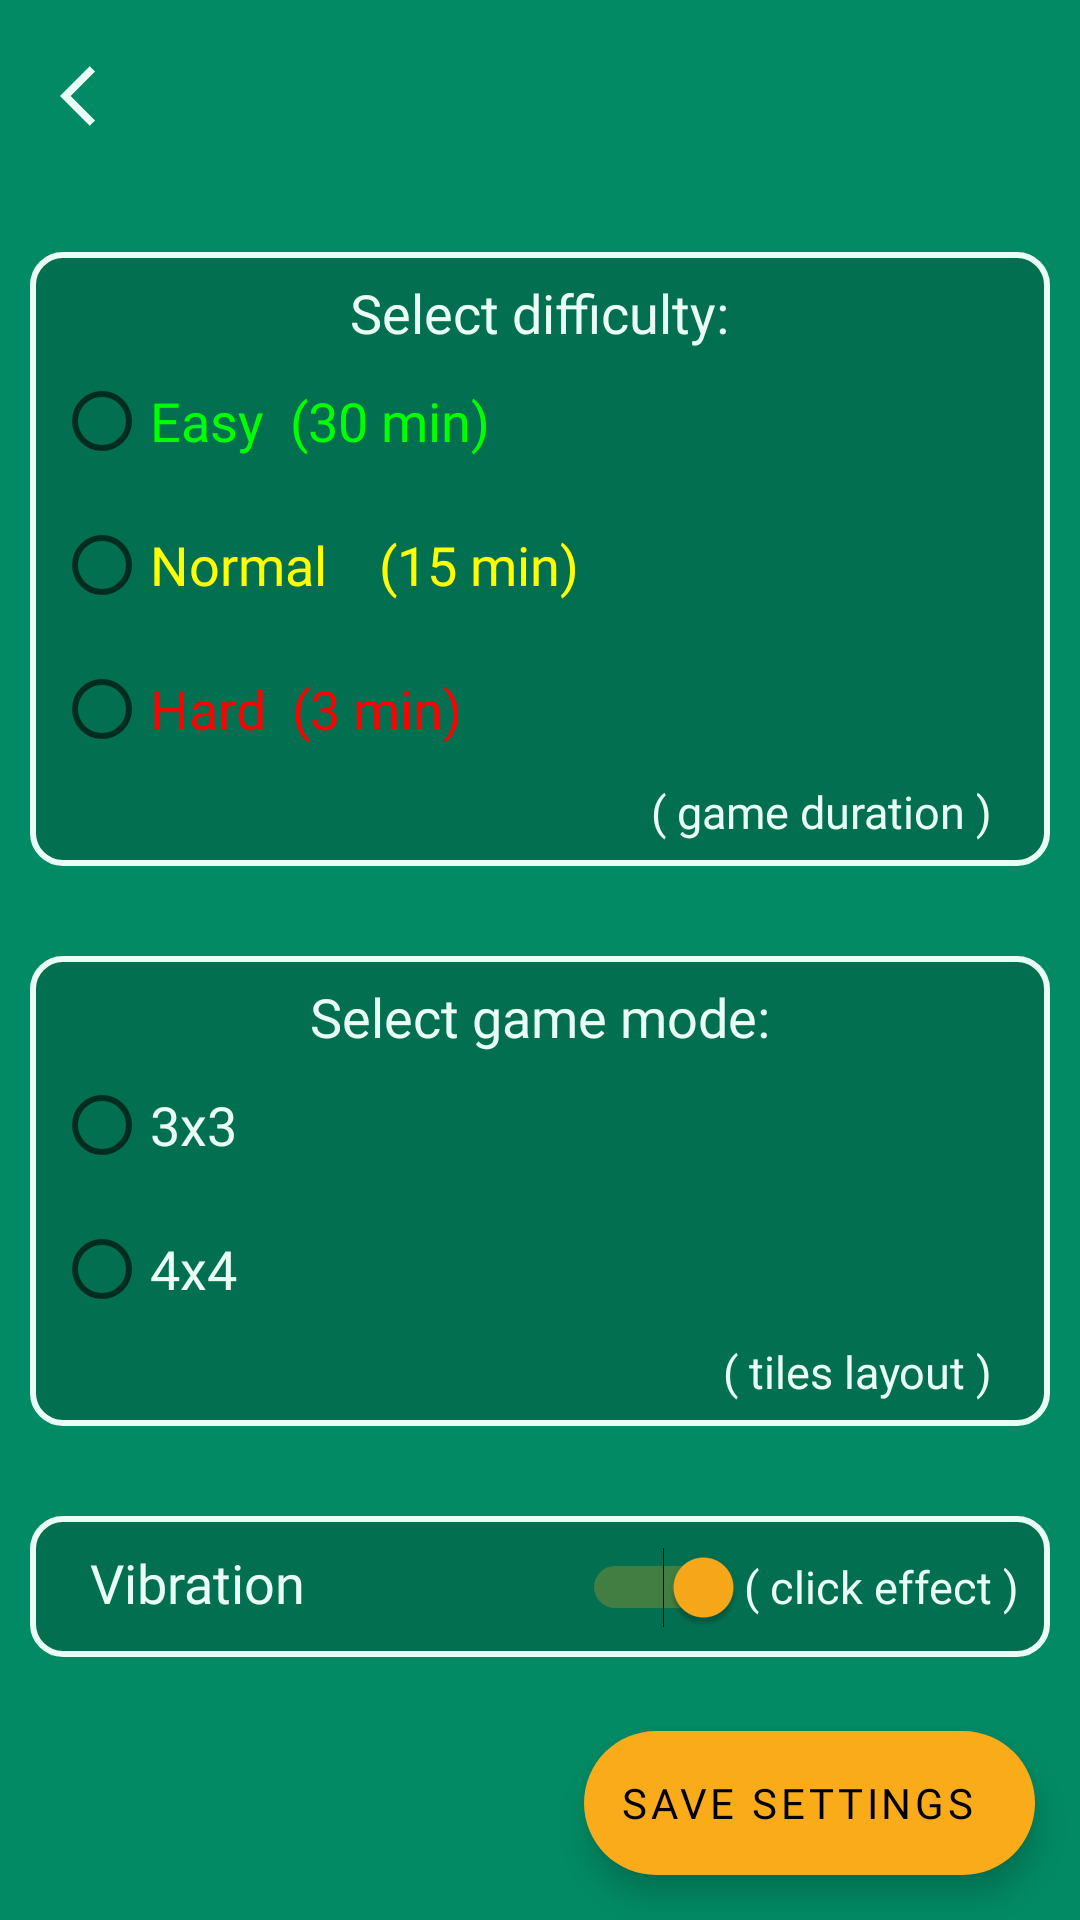

Icons on this 1080 x 1920 Android screen, each with its box as (x1, y1, x2, y2):
arrow back: (60, 66, 95, 126)
